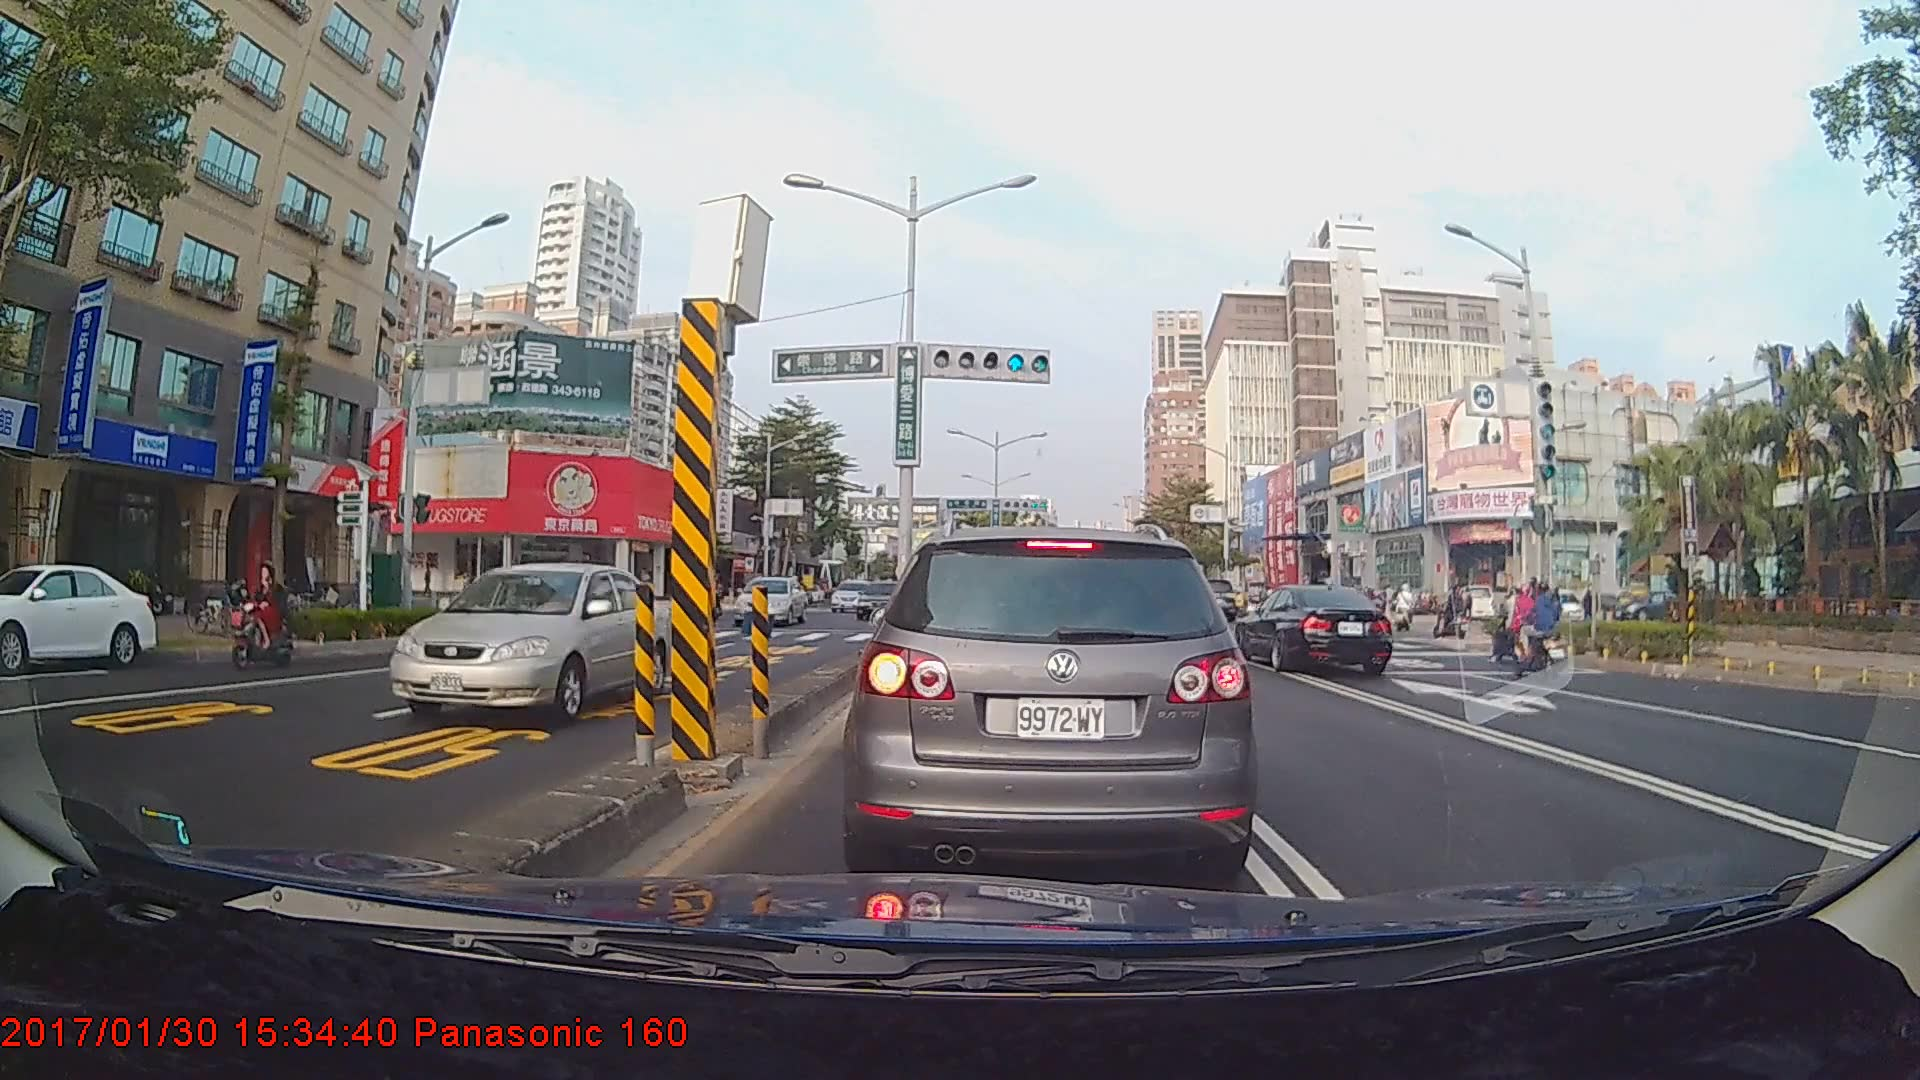rider: (219, 563, 300, 667), (1507, 580, 1577, 683), (1485, 582, 1548, 668), (1436, 582, 1473, 646)
vehicle: (854, 519, 1250, 880), (385, 561, 679, 726), (0, 561, 157, 671), (1231, 582, 1395, 680), (739, 574, 806, 626), (854, 579, 911, 620), (1192, 578, 1236, 622)
